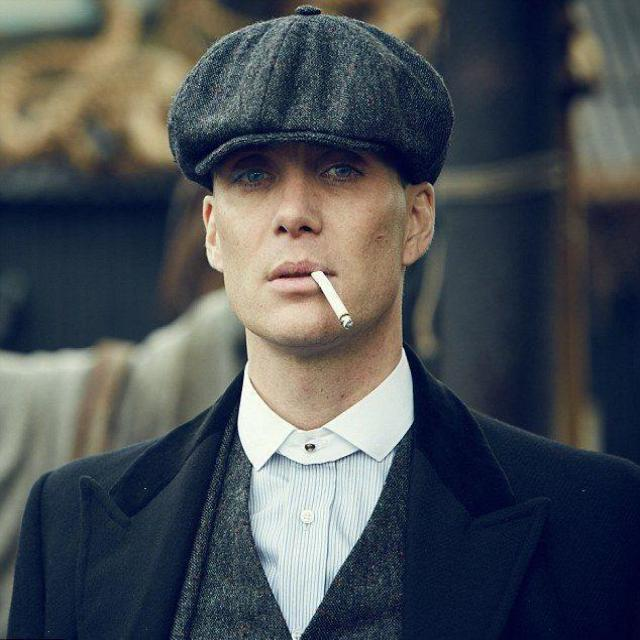rokok: (312, 270, 354, 330)
